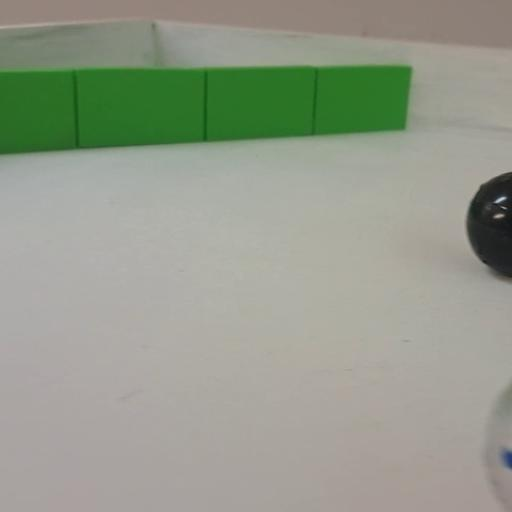alive: (477, 375, 512, 512)
dead: (464, 158, 512, 289)
